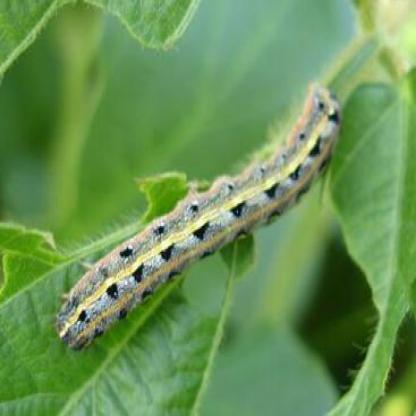armyworm: (44, 73, 357, 358)
